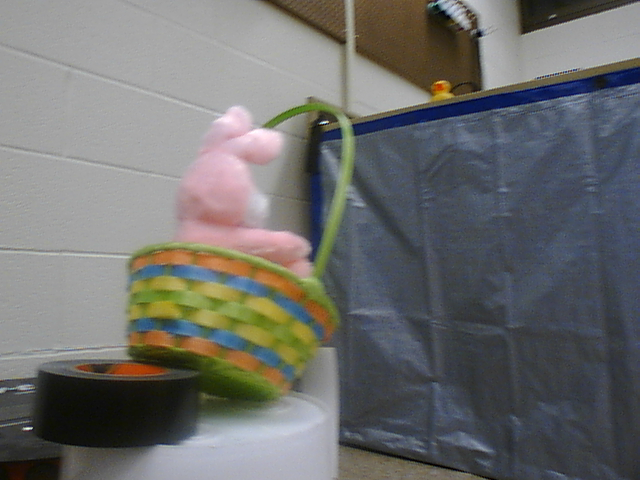bunny: (115, 94, 361, 412)
